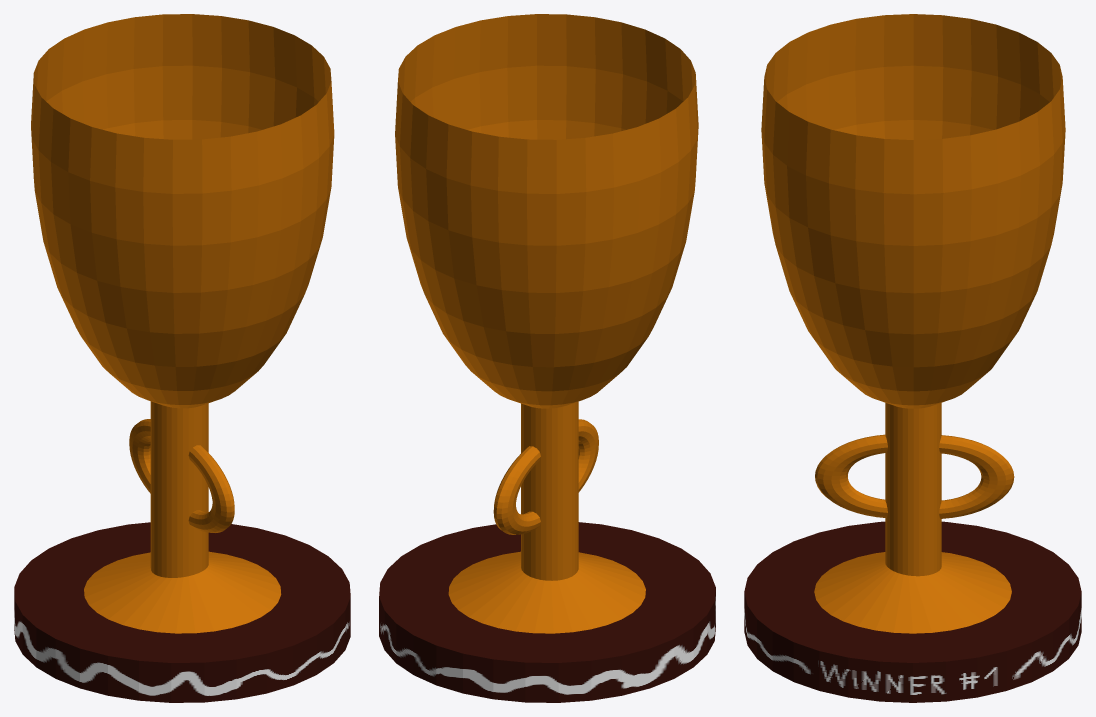
File: trophy.obj
The picture shows the model from 3 angles, left to right: view 1: azimuth 30°, elevation 25°; view 2: azimuth 150°, elevation 25°; view 3: azimuth 270°, elevation 25°; orthographic projection.
Visible parts, largest first — view 1: Trophy, Base; view 2: Trophy, Base; view 3: Trophy, Base.
Boxes of the visible parts, x1,y1,x2,y2 form: Trophy: (31, 14, 334, 633); Base: (14, 522, 350, 702); Trophy: (395, 14, 698, 633); Base: (379, 522, 715, 702); Trophy: (761, 14, 1065, 633); Base: (744, 521, 1081, 702).
Size of the model in its own units: 1.66 by 3.01 by 1.66.
2 materials, 1 textured.
